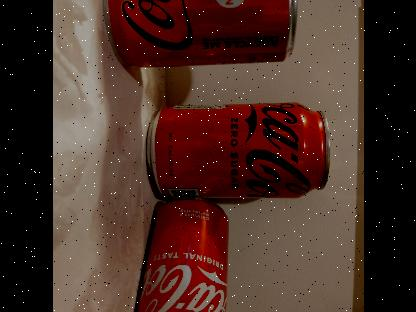Can: (144, 100, 330, 198), (102, 0, 298, 68), (129, 200, 229, 312)
